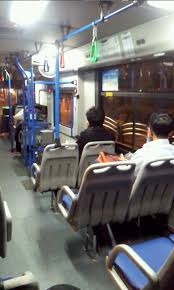seat: (115, 232, 172, 286)
